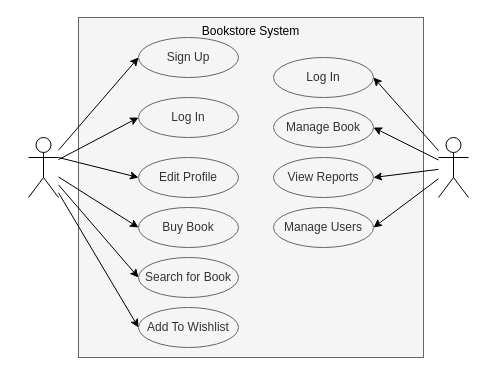
This 486x375 diagram has some shape labels left out. Here are the shapes that lost their labels. From the top down, the box of each, then its label:
(28, 136, 58, 198): Customer
(438, 136, 468, 198): Staff
